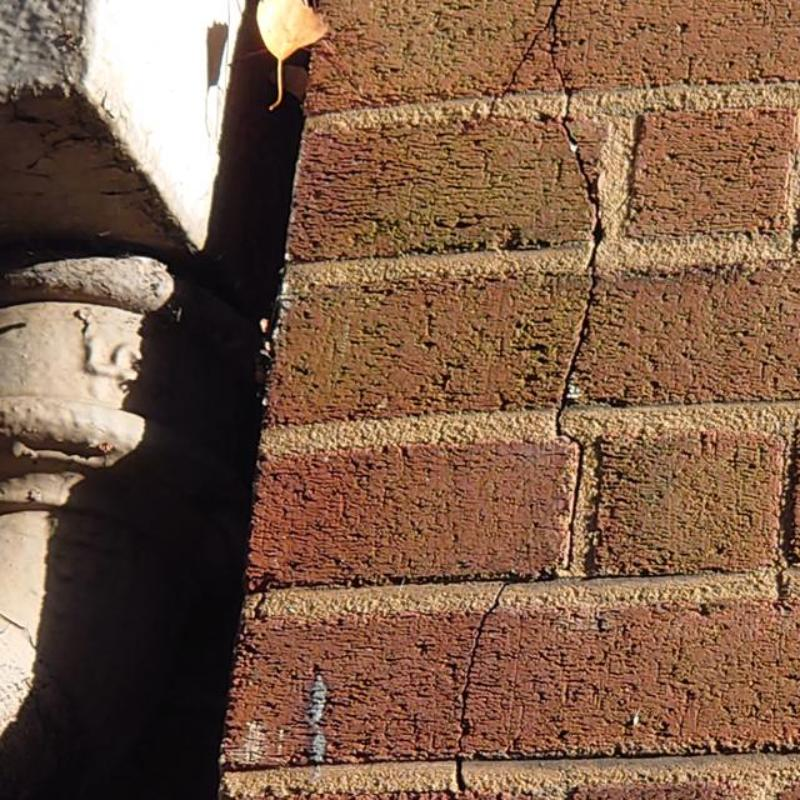pothole: (456, 582, 515, 790), (555, 217, 603, 446), (500, 1, 570, 99), (561, 87, 600, 209), (565, 444, 585, 570)
